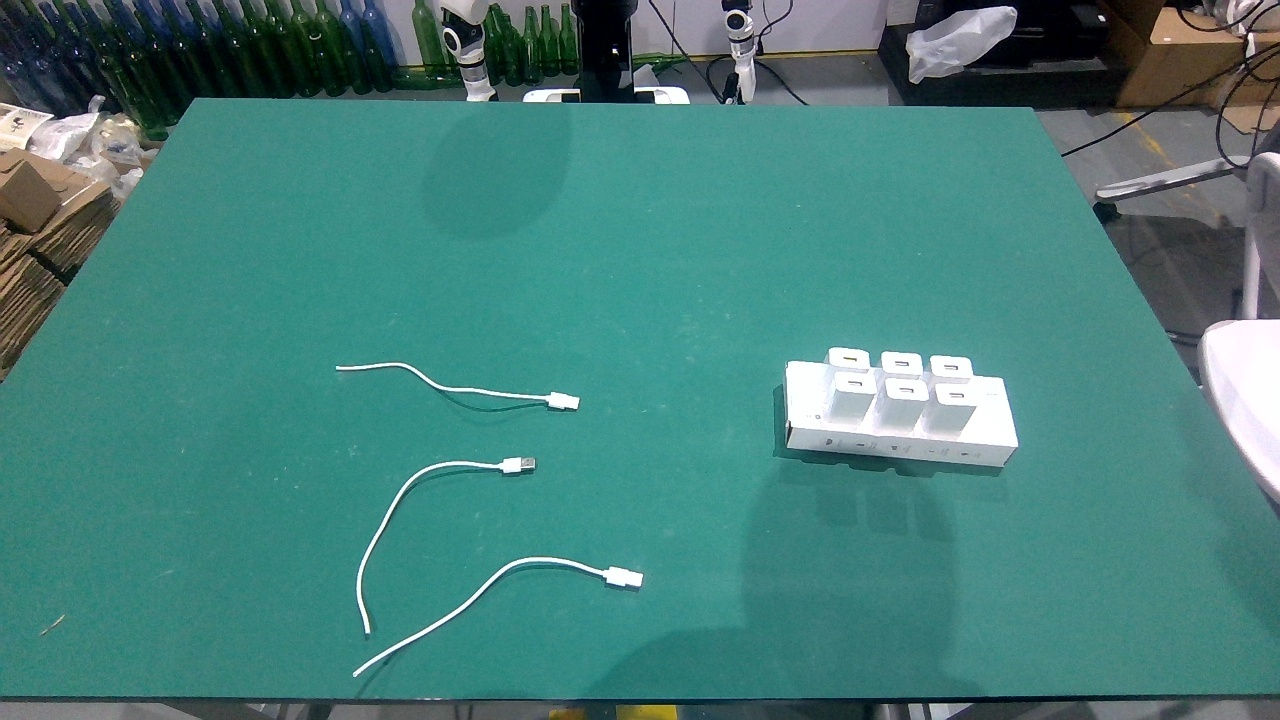usb_a_port: (891, 359, 914, 371), (845, 378, 866, 389), (841, 354, 861, 365), (947, 390, 968, 400), (941, 362, 959, 372), (897, 384, 916, 393)
